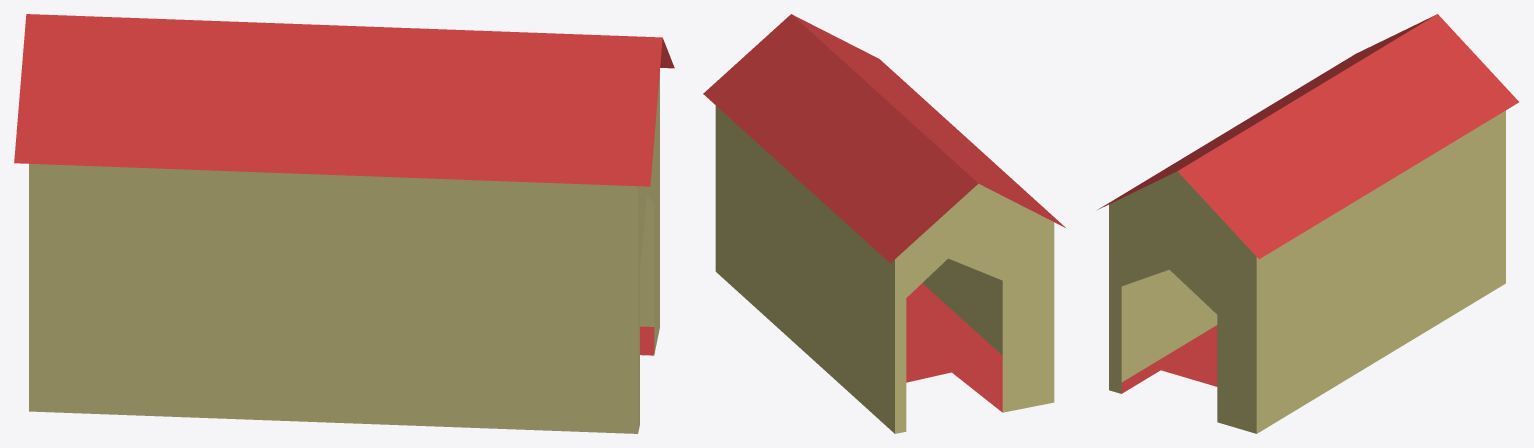
3 views of the same model, side by side, from view 1: azimuth 30°, elevation 25°; view 2: azimuth 150°, elevation 25°; view 3: azimuth 270°, elevation 25° (orthographic). The views are drawn at different scales.
Bounding box in the file's own units: 25.04 × 21.82 × 13.87.
